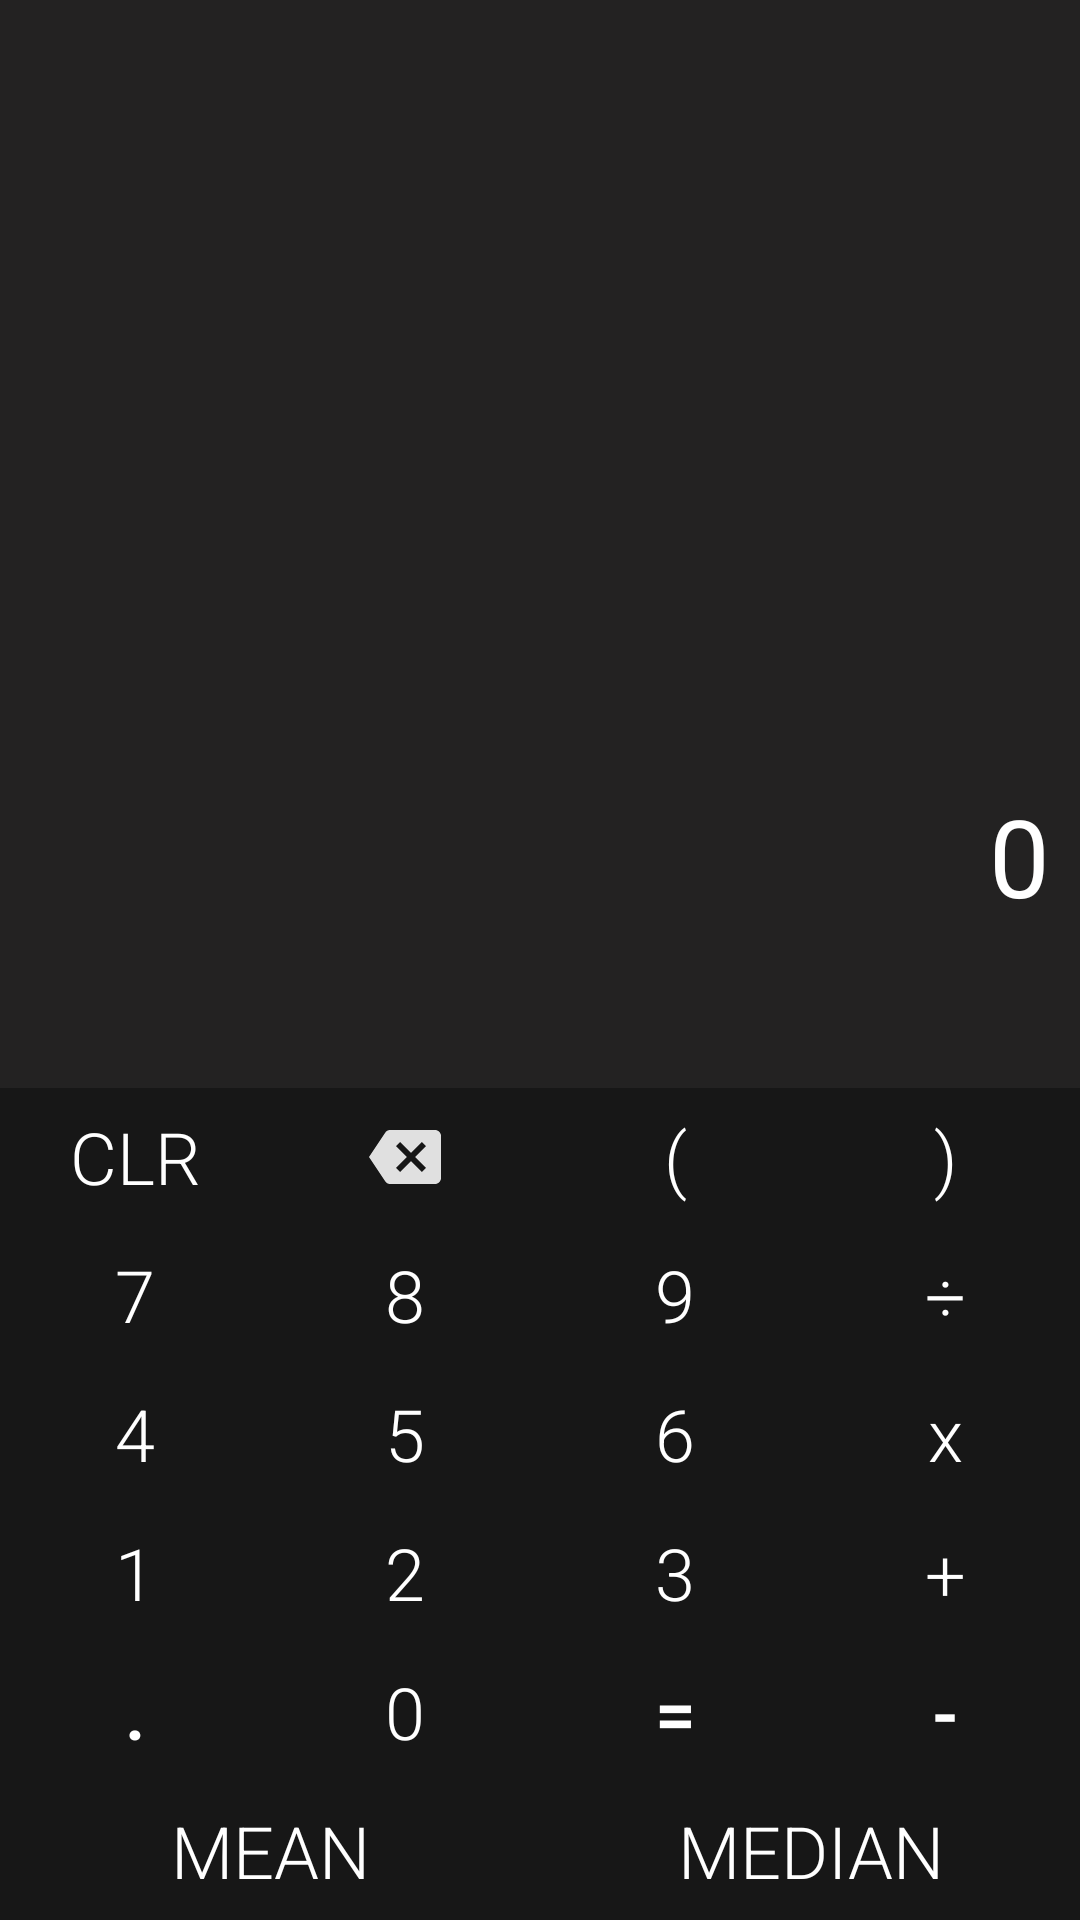

Icons on this 1080 × 1920 Android screen, each with the point to tap as (x=x, y=y):
back: (x=405, y=1157)
